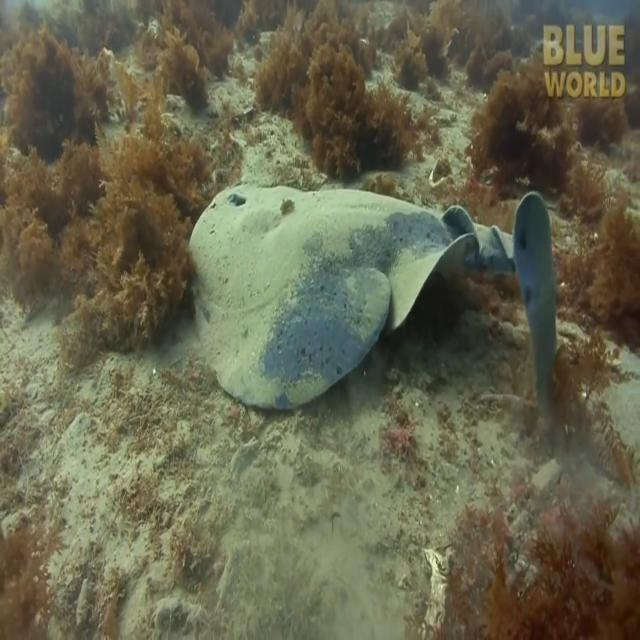Torpedo -Electrical-: (193, 184, 556, 412)
